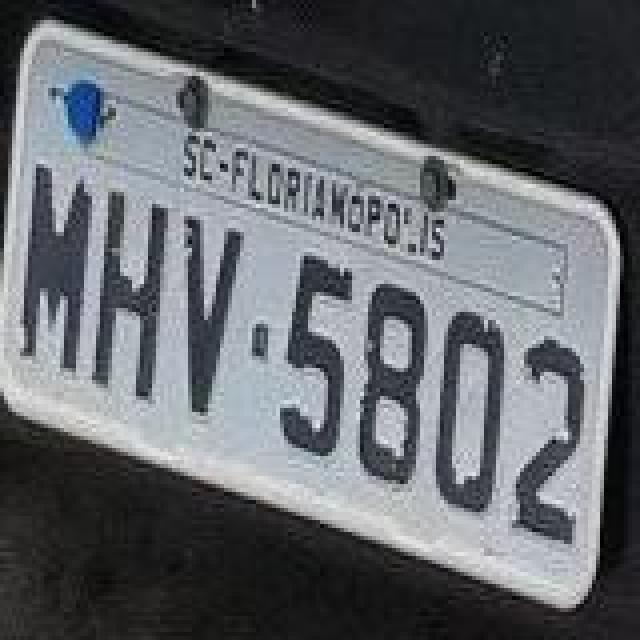2: (508, 332, 588, 548)
5: (278, 254, 354, 458)
8: (356, 282, 428, 486)
H: (88, 190, 168, 402)
M: (18, 162, 94, 374)
O: (436, 308, 508, 516)
V: (184, 212, 248, 420)
